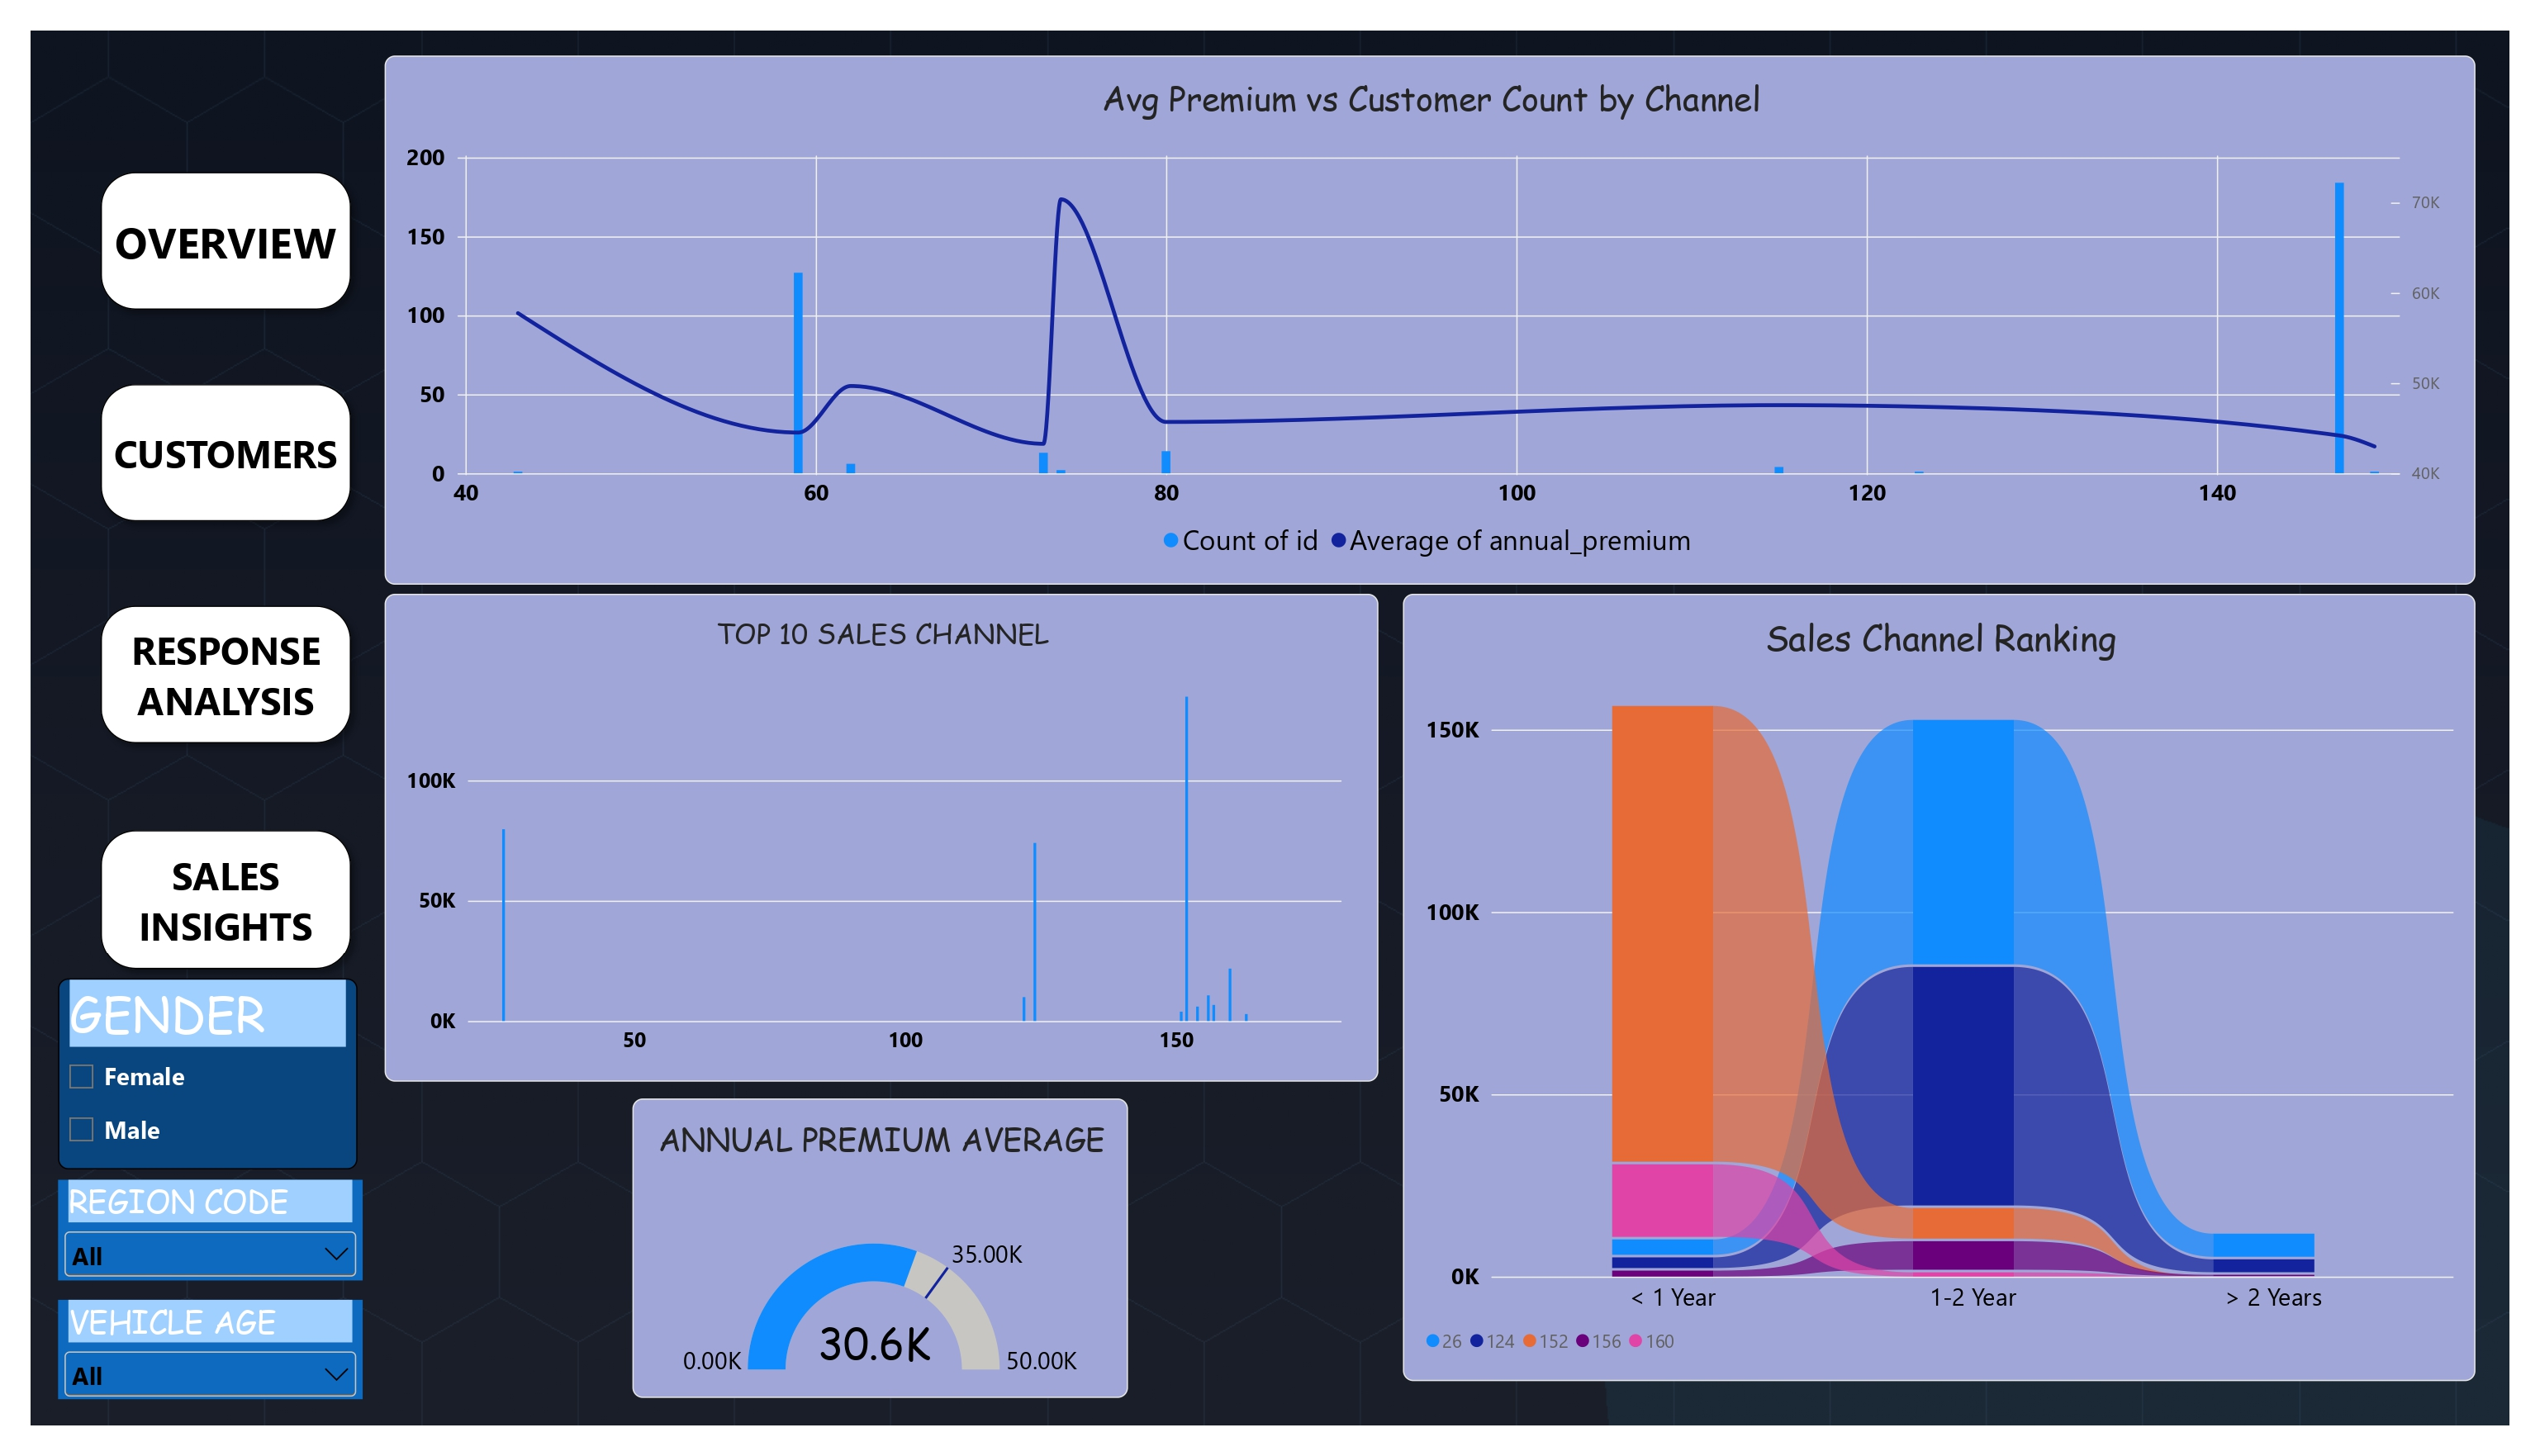

This screenshot's page, from the dashboard's own definition file:
{"tool":"powerbi","page":{"name":"SALES INSIGHTS","canvas":[1920,1080],"ordinal":3},"visuals":[{"type":"shape","box":[44.6,99.9,212.6,125.4],"z":0},{"type":"shape","box":[44.6,263.6,212.6,125.4],"z":1000},{"type":"shape","box":[44.6,435.8,212.6,125.4],"z":2000},{"type":"shape","box":[44.6,610.2,212.6,125.4],"z":3000},{"type":"slicer","fields":{"Values":["Sheet1.gender"]},"box":[21.5,733.7,231.7,148],"z":4000},{"type":"slicer","fields":{"Values":["Sheet1.region_code"]},"box":[21.5,890.3,236,77.2],"z":5000},{"type":"slicer","fields":{"Values":["Sheet1.vehicle_age"]},"box":[21.5,982.5,236,77.2],"z":6000},{"type":"columnChart","title":"TOP 10 SALES CHANNEL ","fields":{"Category":["Sheet1.policy_sales_channel"],"Y":["CountNonNull(Sheet1.id)"]},"box":[274.3,435.8,769.6,378.4],"z":7000},{"type":"lineClusteredColumnComboChart","title":"Avg Premium vs Customer Count by Channel","fields":{"Category":["Sheet1.policy_sales_channel"],"Y":["CountNonNull(Sheet1.id)"],"Y2":["Avg(Sheet1.annual_premium)"]},"box":[274.3,19.1,1620,410.3],"z":8000},{"type":"ribbonChart","title":"Sales Channel Ranking","fields":{"Category":["Sheet1.vehicle_age"],"Series":["Sheet1.policy_sales_channel"],"Y":["CountNonNull(Sheet1.id)"]},"box":[1063,435.8,831.3,610.2],"z":9000},{"type":"gauge","title":"ANNUAL PREMIUM AVERAGE ","fields":{"Y":["Avg(Sheet1.annual_premium)"]},"box":[465.6,827,384.8,231.7],"z":10000}]}

Visuals, with their boxes on the page's 1920x1080 design canvas (x1, y1, x2, y2). These are canvas units, not pixel positions in the 2540x1456 screenshot, which may show the page scaled, cropped or inside an application window:
shape: <region>45, 100, 257, 225</region>
shape: <region>45, 264, 257, 389</region>
shape: <region>45, 436, 257, 561</region>
shape: <region>45, 610, 257, 736</region>
slicer - Sheet1.gender: <region>22, 734, 253, 882</region>
slicer - Sheet1.region_code: <region>22, 890, 258, 968</region>
slicer - Sheet1.vehicle_age: <region>22, 982, 258, 1060</region>
"TOP 10 SALES CHANNEL " columnChart: <region>274, 436, 1044, 814</region>
"Avg Premium vs Customer Count by Channel" lineClusteredColumnComboChart: <region>274, 19, 1894, 429</region>
"Sales Channel Ranking" ribbonChart: <region>1063, 436, 1894, 1046</region>
"ANNUAL PREMIUM AVERAGE " gauge: <region>466, 827, 850, 1059</region>
